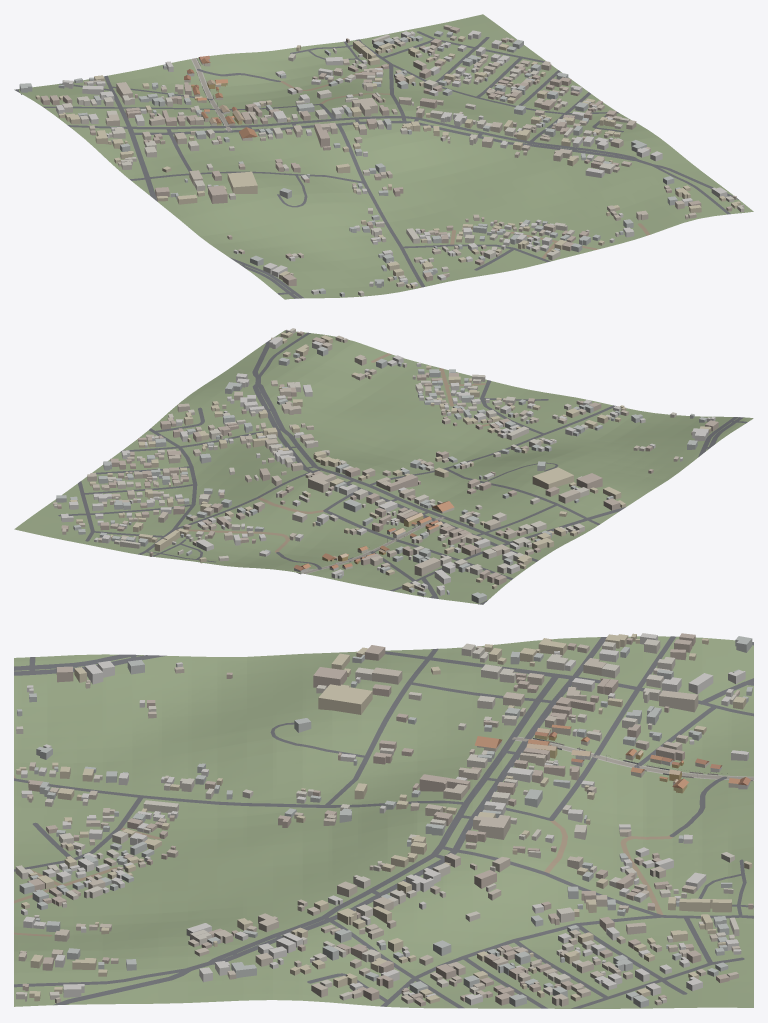
The model's file is piloto-15nov.glb.
The picture shows the model from 3 angles, top to bottom: view 1: azimuth 30°, elevation 25°; view 2: azimuth 150°, elevation 25°; view 3: azimuth 270°, elevation 25°; orthographic projection. The views are drawn at different scales.
Parts seen in each view (by area): view 1: terreno-col, predios-col, ruas_paved-col, telhados, ruas_unpaved-col, predios_regra-col; view 2: terreno-col, predios-col, ruas_paved-col, telhados, ruas_unpaved-col, predios_regra-col; view 3: terreno-col, predios-col, ruas_paved-col, telhados, ruas_unpaved-col, predios_regra-col, ruas_pedra-col.
Boxes of the visible parts, box(x1,y1,x2,y2) form: terreno-col: box(14, 14, 753, 299); predios-col: box(19, 25, 744, 296); ruas_paved-col: box(15, 31, 738, 298); telhados: box(184, 55, 257, 138); ruas_unpaved-col: box(279, 64, 650, 288); predios_regra-col: box(184, 58, 252, 140); terreno-col: box(14, 330, 753, 604); predios-col: box(53, 328, 718, 604); ruas_paved-col: box(58, 332, 747, 604); telhados: box(293, 501, 454, 570); ruas_unpaved-col: box(176, 353, 619, 552); predios_regra-col: box(294, 507, 454, 574); terreno-col: box(14, 636, 753, 1008); predios-col: box(15, 633, 753, 1007); ruas_paved-col: box(14, 636, 753, 1008); telhados: box(474, 724, 750, 788); ruas_unpaved-col: box(14, 775, 672, 936); predios_regra-col: box(477, 727, 750, 793); ruas_pedra-col: box(512, 737, 753, 780).
Size of the model in its own units: 800 by 78.64 by 800.
